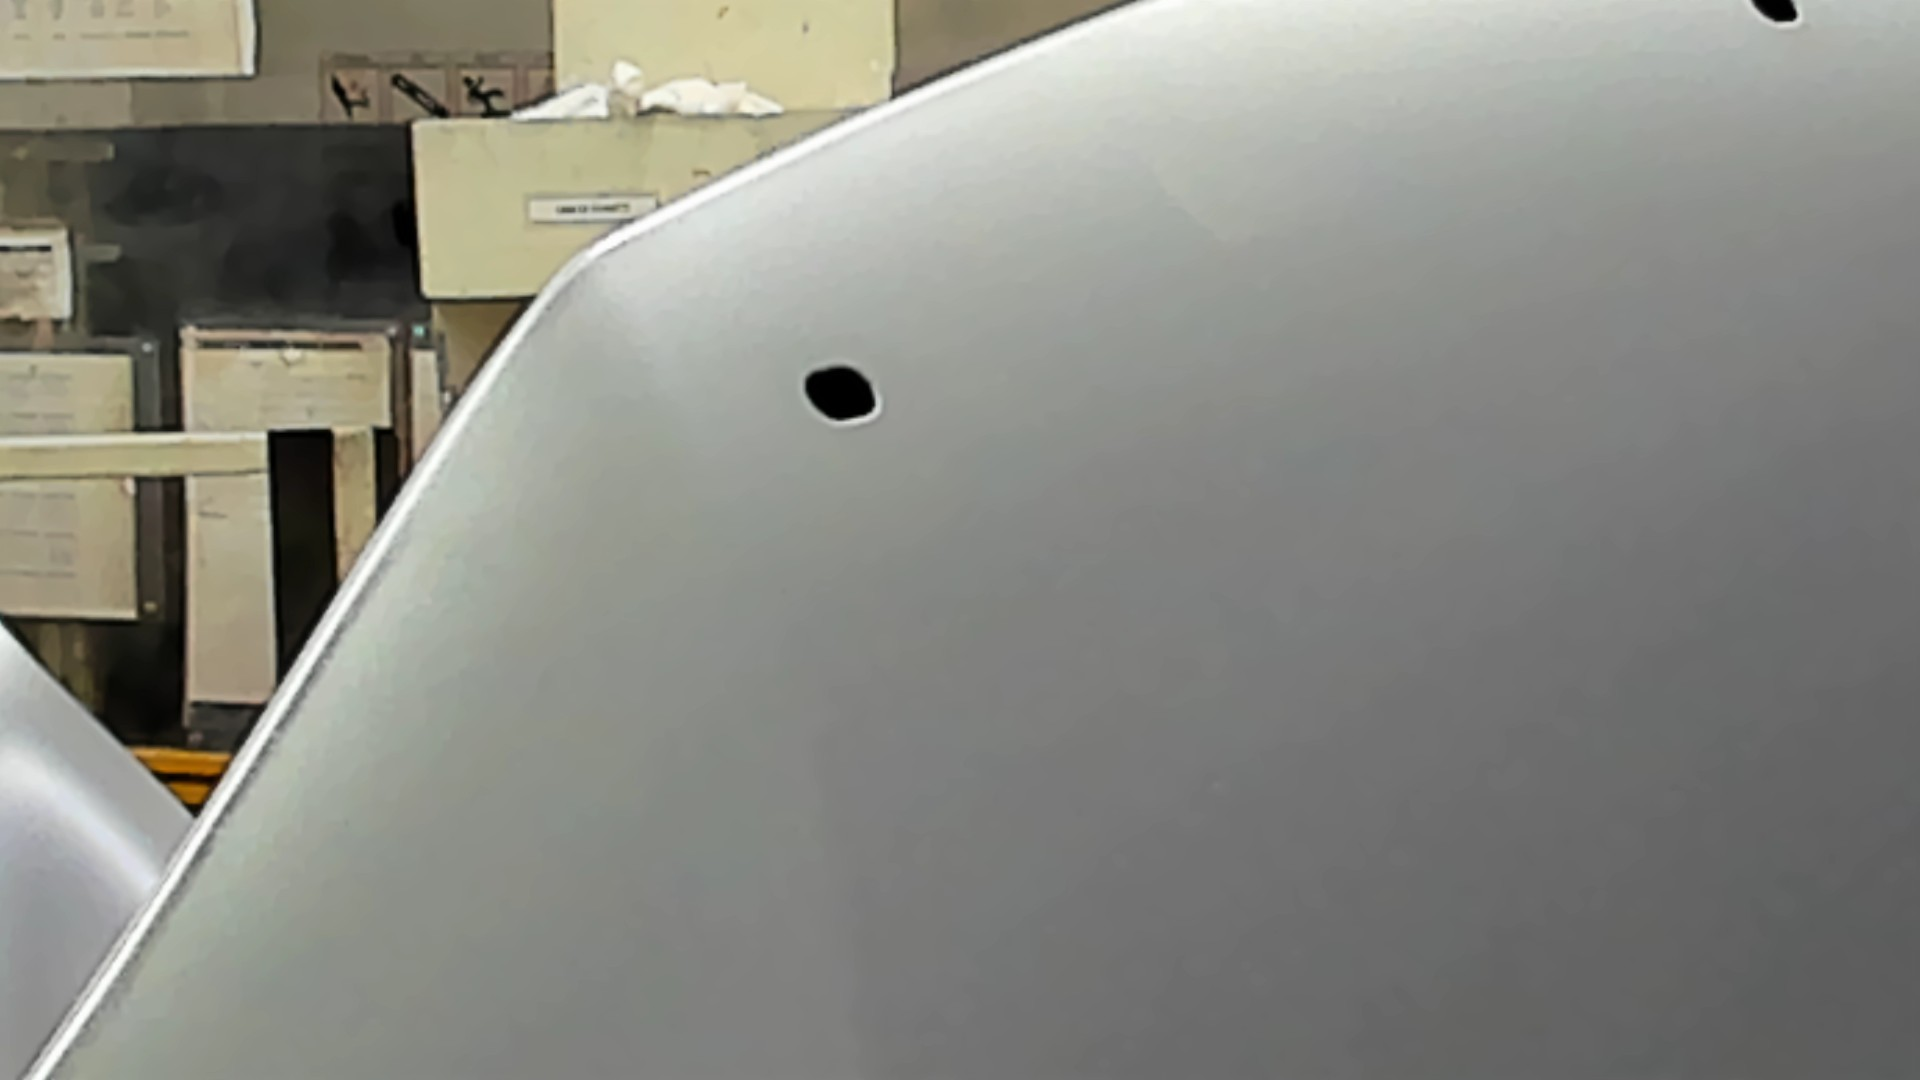amorfo: (798, 356, 889, 429), (1746, 1, 1815, 36)
